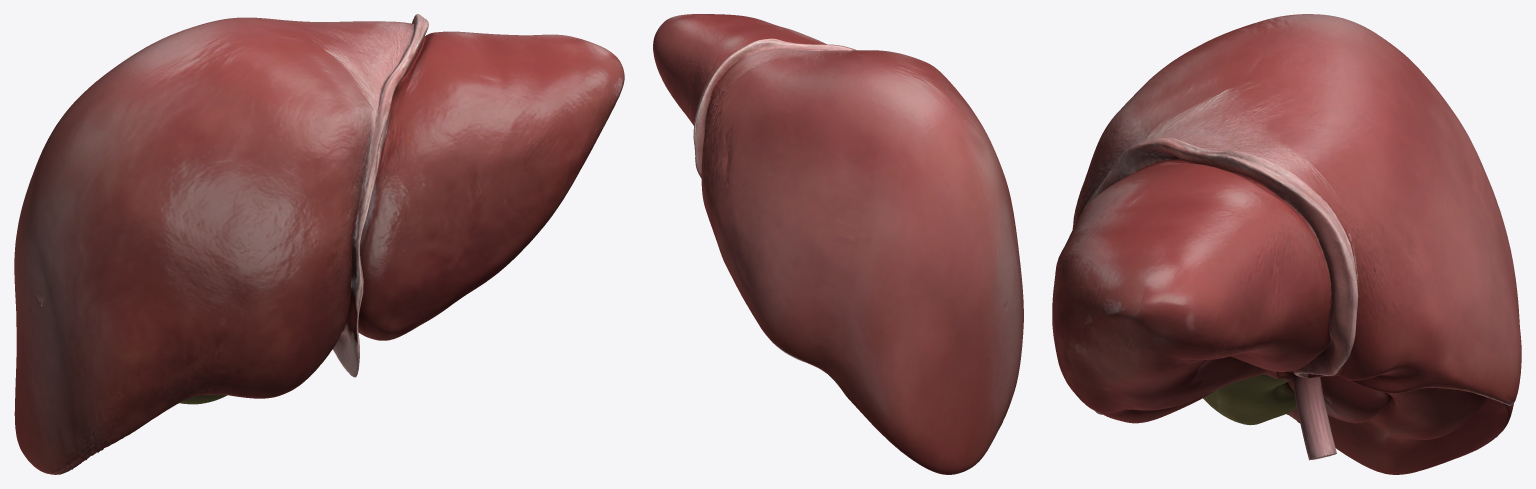
The model's file is human_liver_hepatwin.glb.
The picture shows the model from 3 angles, left to right: view 1: azimuth 30°, elevation 25°; view 2: azimuth 150°, elevation 25°; view 3: azimuth 270°, elevation 25°; orthographic projection. The views are drawn at different scales.
Visible parts, largest first — view 1: tmpv8ianeu5obj; view 2: tmpv8ianeu5obj; view 3: tmpv8ianeu5obj.
Boxes of the visible parts, x1,y1,x2,y2 form: tmpv8ianeu5obj: [14, 14, 624, 474]; tmpv8ianeu5obj: [653, 14, 1023, 474]; tmpv8ianeu5obj: [1052, 14, 1521, 474].
Bounding box in the file's own units: 1 × 0.8198 × 0.6707.
1 material, 1 textured.
